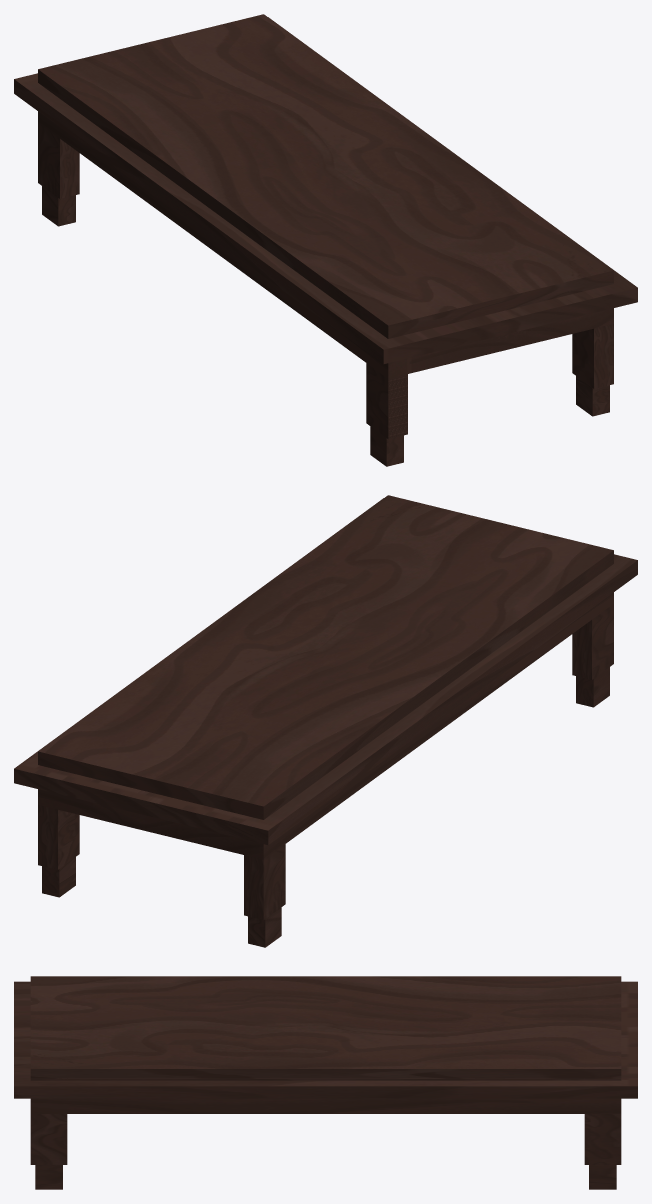
The model's file is örtülülerin masa.fbx.
3 renders of one model, top to bottom at view 1: azimuth 30°, elevation 25°; view 2: azimuth 150°, elevation 25°; view 3: azimuth 270°, elevation 25°, orthographic. The views are drawn at different scales.
Parts seen in each view (by area): view 1: Cube.097; view 2: Cube.097; view 3: Cube.097.
Boxes of the visible parts, x1,y1,x2,y2 form: Cube.097: (14,14,637,466); Cube.097: (14,495,637,947); Cube.097: (14,976,637,1189).
Size of the model in its own units: 123 by 66.3 by 310.
1 material, 1 textured.
